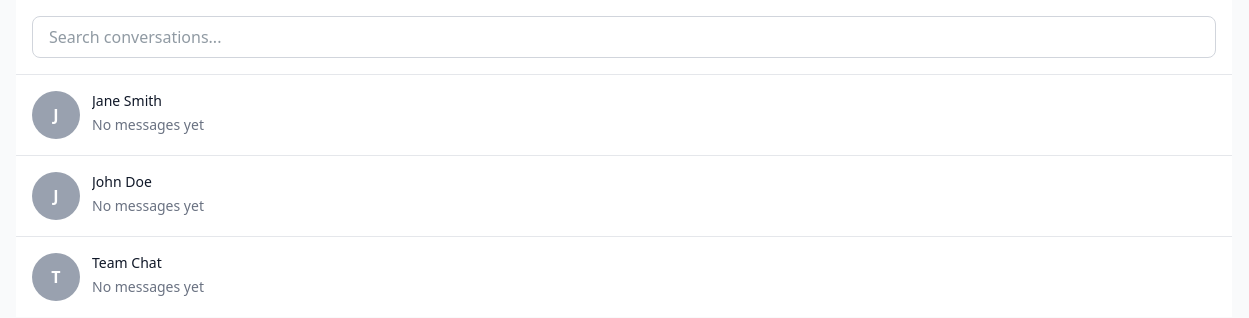
Test case: ConversationList › Search and filter › shows empty state with appropriate message when no results
Step 1. Type "NonExistent" into the field with placeholder "Search conversations..." → (624, 37), box [32,16,1216,58]
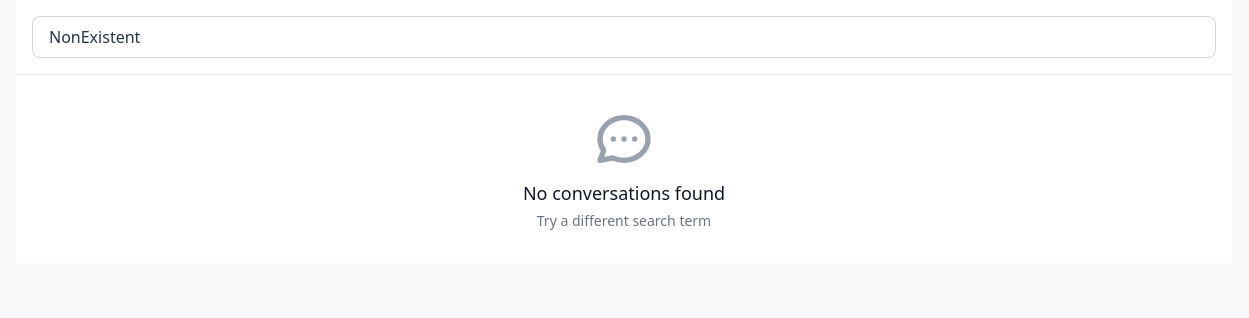
Expected: the heading "No conversations found" is shown, [523,179,725,207]
Expected: the text "Try a different search term" is shown, [537,211,711,231]
